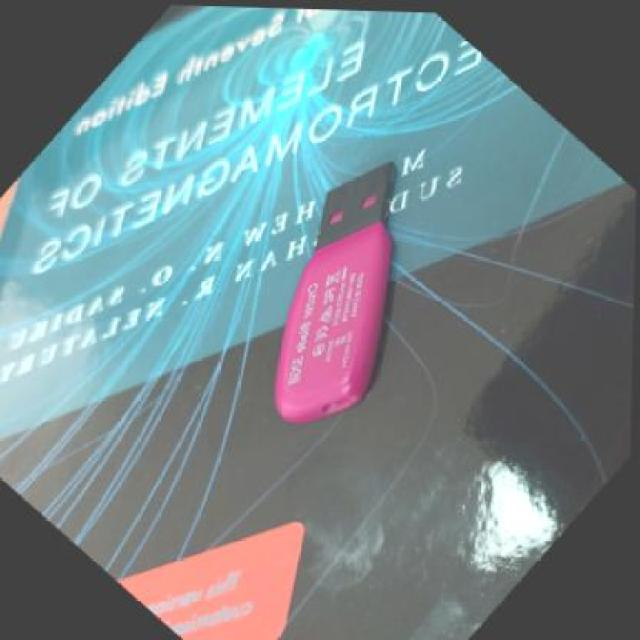Flashdisk: (192, 130, 505, 458)
